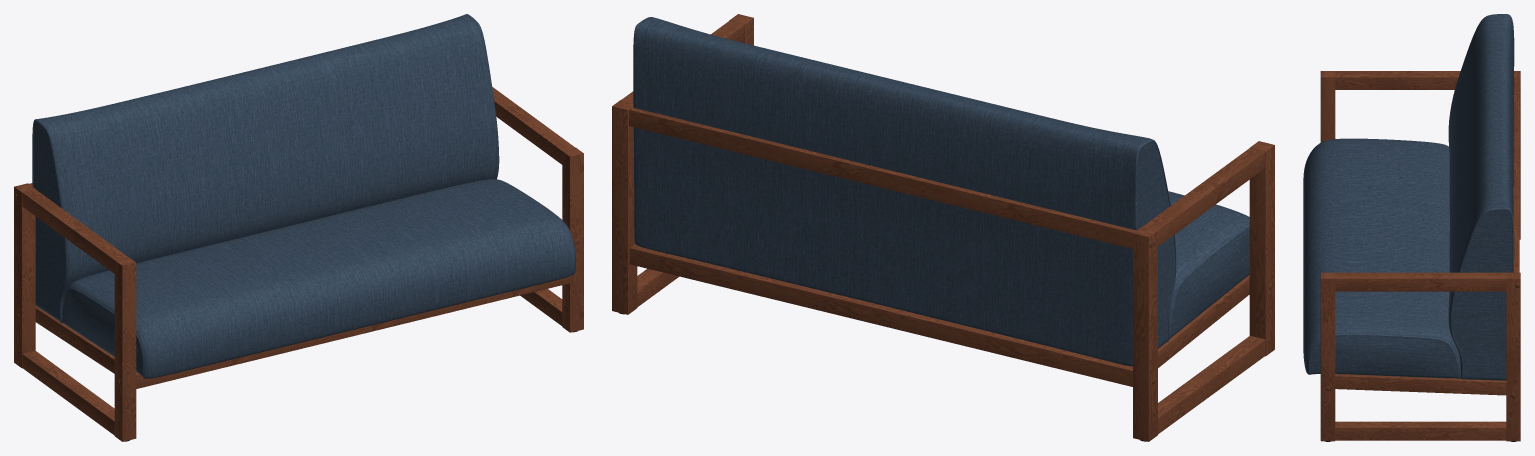
The model's file is lobby-sofa.glb.
3 views of the same model, side by side, from view 1: azimuth 30°, elevation 25°; view 2: azimuth 150°, elevation 25°; view 3: azimuth 270°, elevation 25° (orthographic). The views are drawn at different scales.
Parts seen in each view (by area): view 1: CouchMesh; view 2: CouchMesh; view 3: CouchMesh.
Part boxes in pixels (bbox=[...]): CouchMesh: bbox=[14, 14, 583, 441]; CouchMesh: bbox=[612, 14, 1274, 441]; CouchMesh: bbox=[1303, 14, 1520, 441].
Size of the model in its own units: 139 by 70.93 by 61.39.
Materials: 1 (1 with a texture image).
